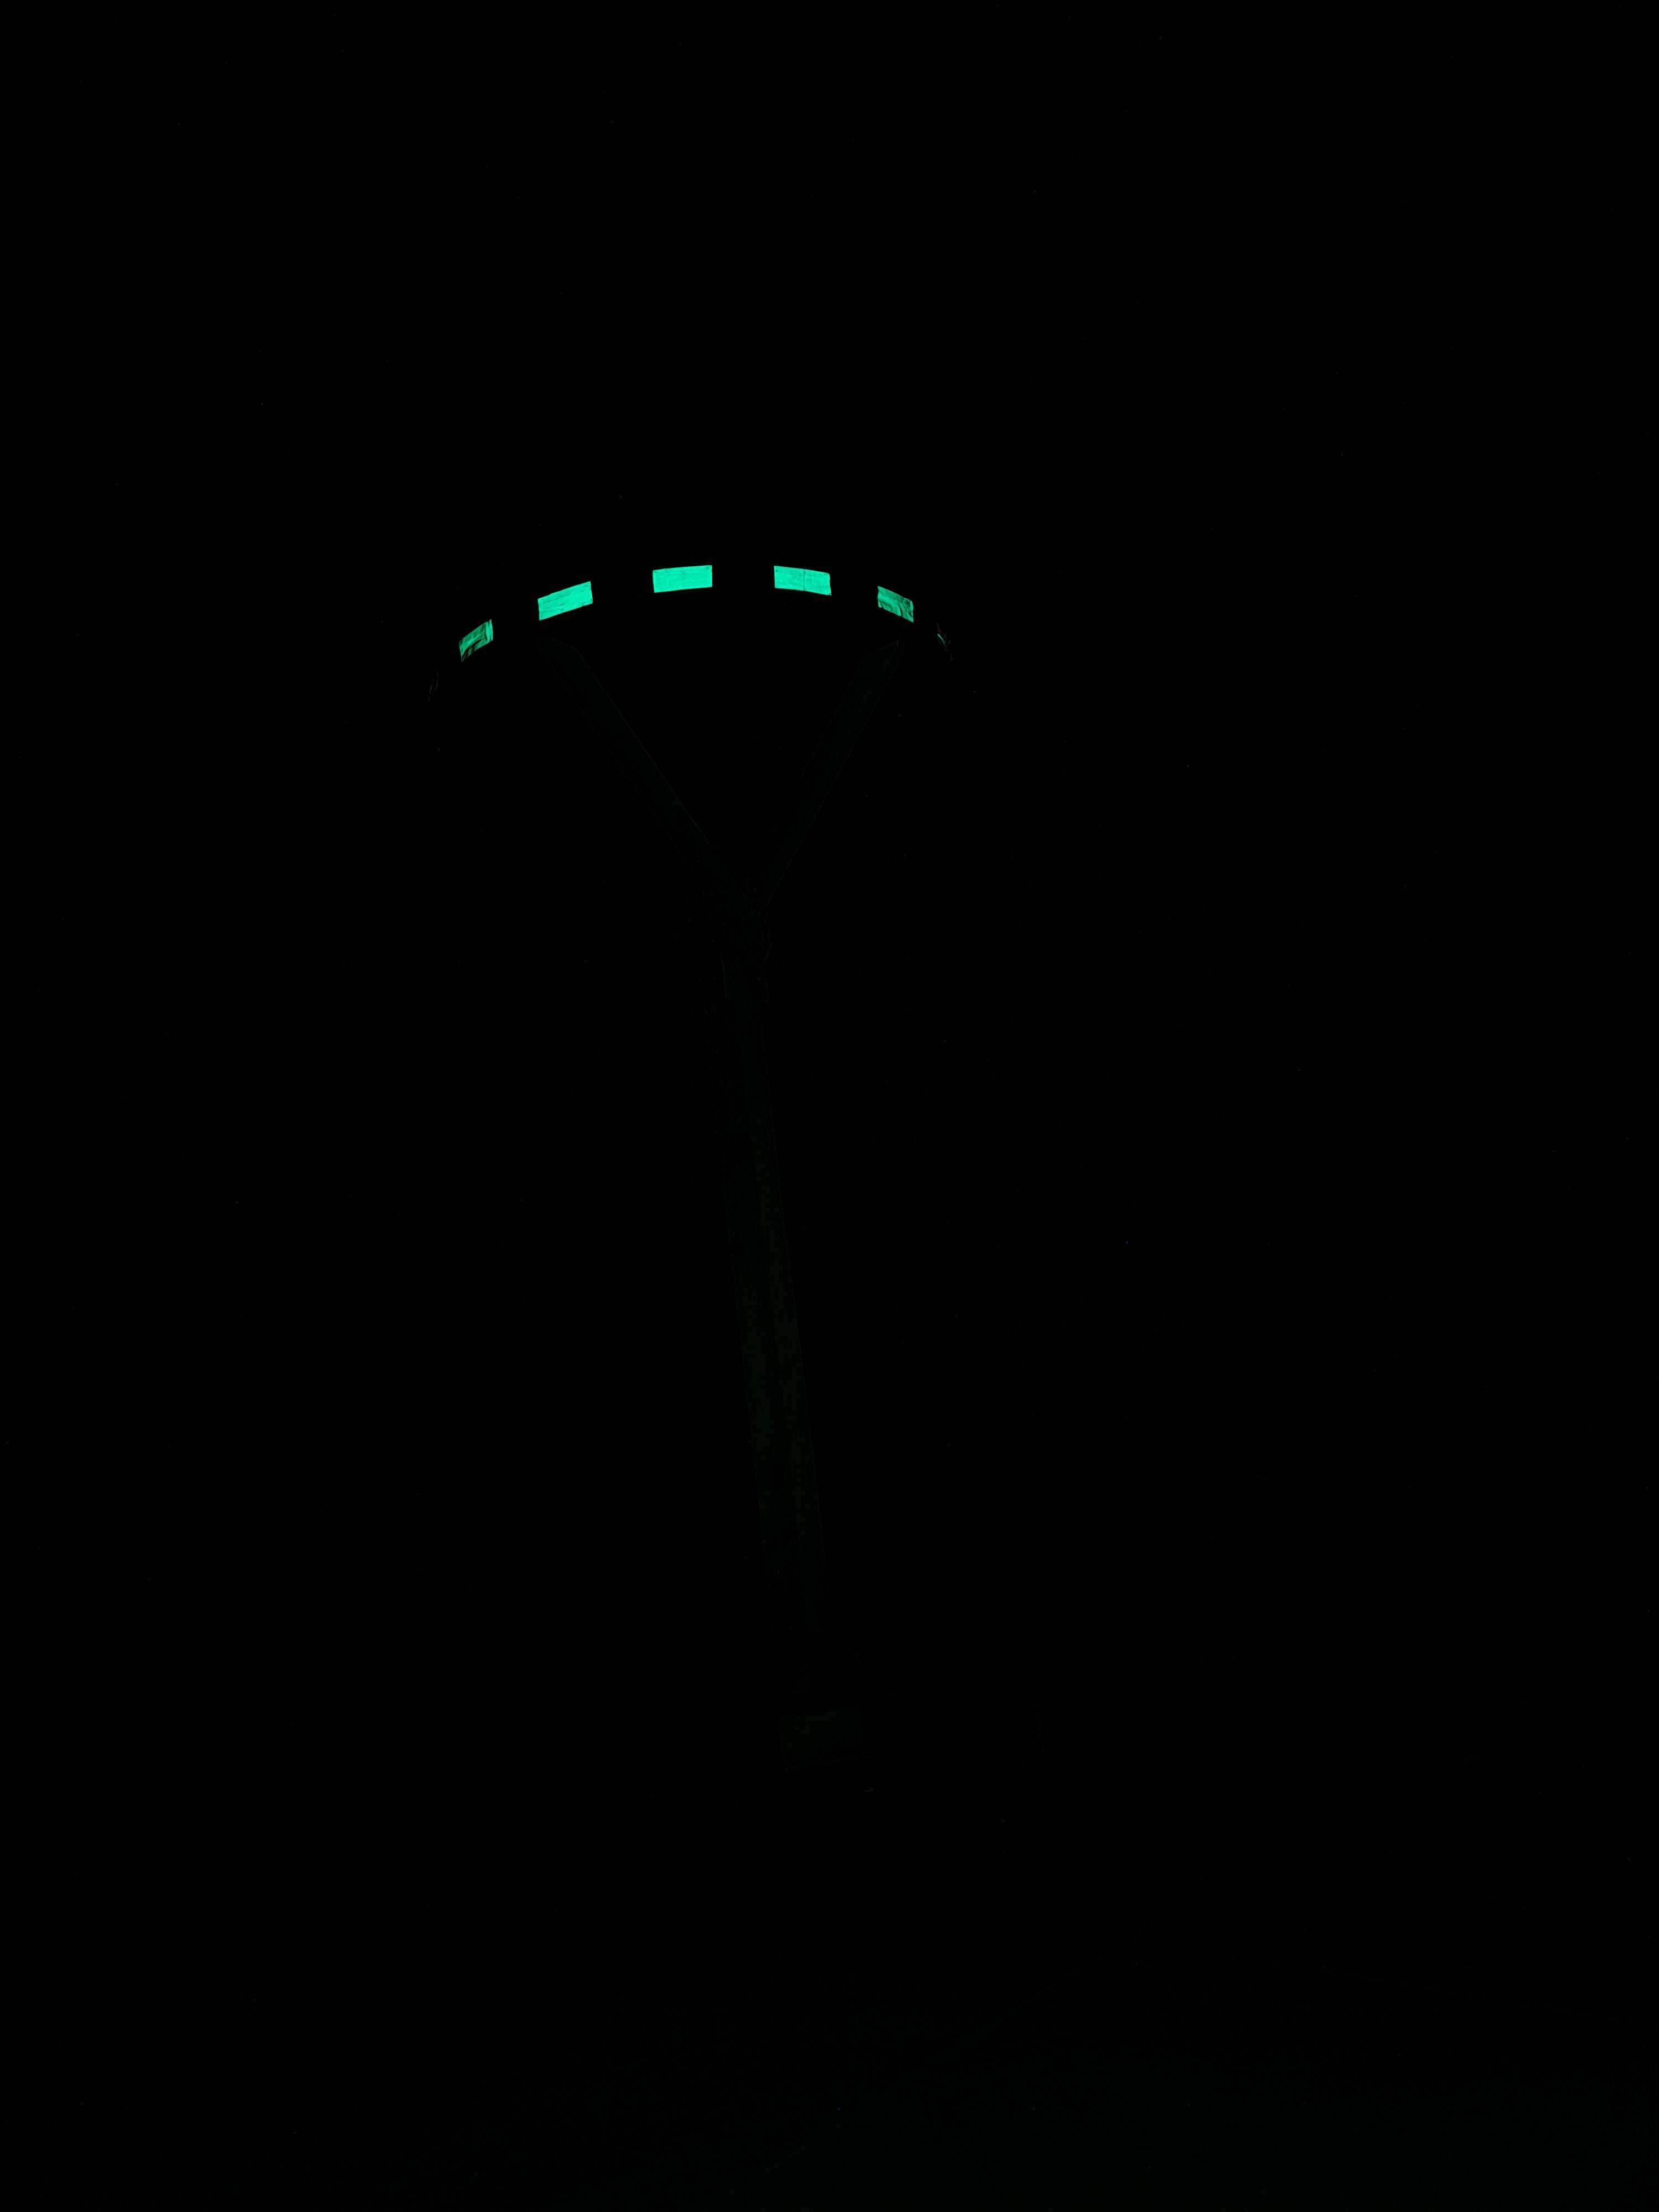hoop: (458, 561, 918, 662)
